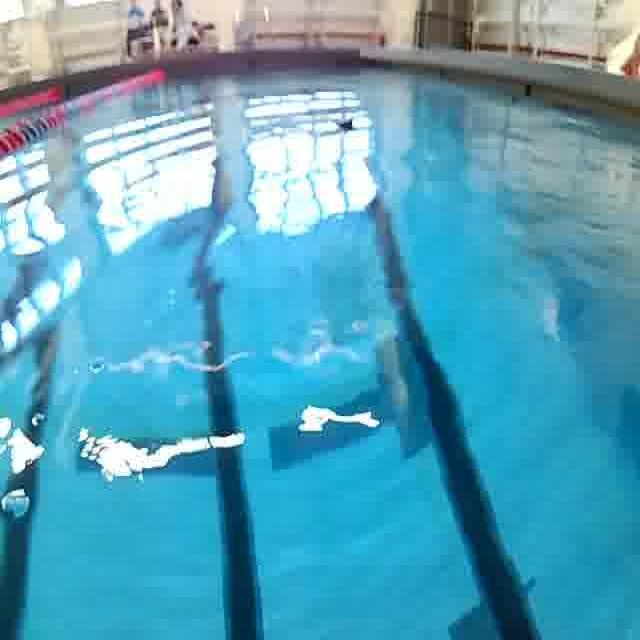CamMount: (330, 110, 361, 141)
